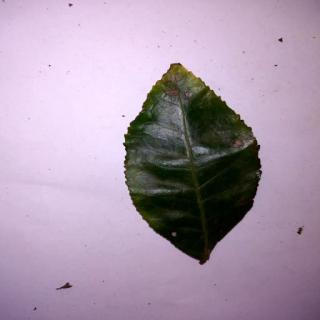Anthracnose: (125, 64, 265, 266)
